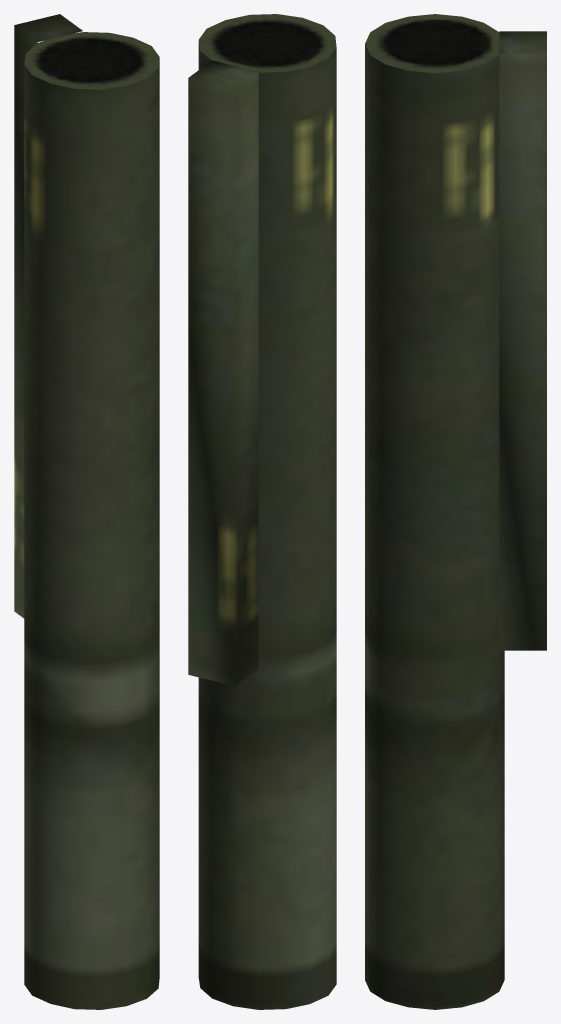
Rendered from LAW66_ANTITANKLAUNCHER.glb.
3 renders of one model, left to right at view 1: azimuth 30°, elevation 25°; view 2: azimuth 150°, elevation 25°; view 3: azimuth 270°, elevation 25°, orthographic.
Parts seen in each view (by area): view 1: LAW66_ANTITANKLAUNCHER; view 2: LAW66_ANTITANKLAUNCHER; view 3: LAW66_ANTITANKLAUNCHER.
Boxes of the visible parts, x1,y1,x2,y2 form: LAW66_ANTITANKLAUNCHER: (14,14,159,1009); LAW66_ANTITANKLAUNCHER: (188,14,336,1009); LAW66_ANTITANKLAUNCHER: (365,14,546,1009).
Bounding box in the file's own units: 0.136 × 1 × 0.176.
1 material, 1 textured.
